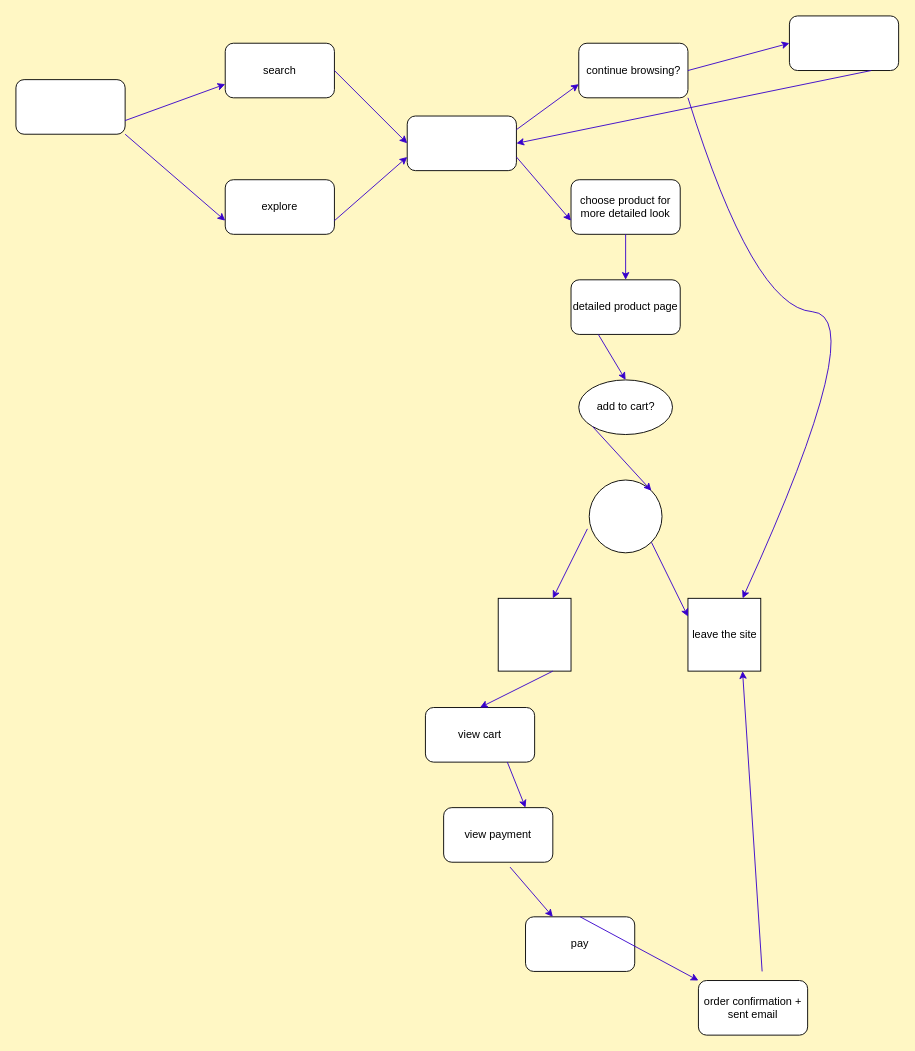
This 915x1051 diagram has some shape labels left out. The box of each missing label's shape, as (x1, y1, x2, y2) in pixels:
added to cart: (588, 479, 662, 553)
checkout: (497, 597, 571, 671)
continue searching: (789, 15, 899, 71)
products screen: (406, 115, 516, 171)
user arrives to homepage: (15, 79, 125, 134)
